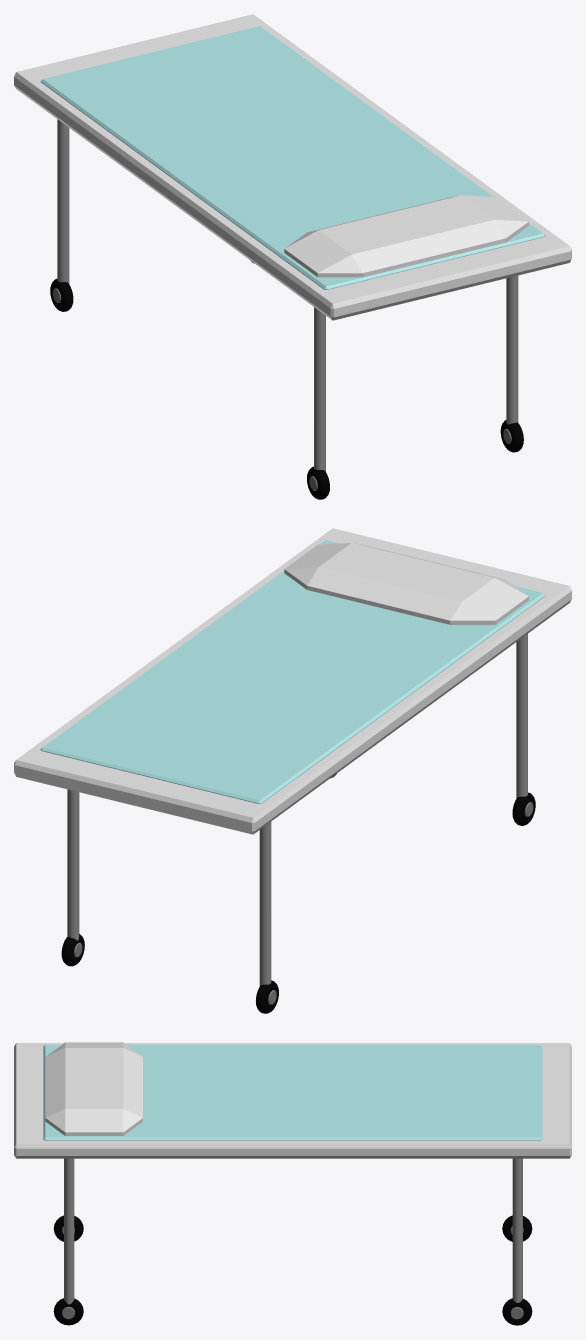
The model's file is MedBedFinal1.fbx.
The picture shows the model from 3 angles, top to bottom: view 1: azimuth 30°, elevation 25°; view 2: azimuth 150°, elevation 25°; view 3: azimuth 270°, elevation 25°; orthographic projection. The views are drawn at different scales.
Parts seen in each view (by area): view 1: pCube1, pCube2, pCube3, pCylinder2, pCylinder4, pCylinder3; view 2: pCube1, pCube2, pCube3, pCylinder2, pCylinder1, pCylinder3; view 3: pCube1, pCube2, pCube3, pCylinder4, pCylinder1, pTorus5, pTorus2, pTorus4, pTorus3.
Part boxes in pixels (x1=…): pCube1: x1=40, y1=26, x2=545, y2=289; pCube2: x1=14, y1=14, x2=571, y2=320; pCube3: x1=284, y1=195, x2=528, y2=277; pCylinder2: x1=57, y1=119, x2=69, y2=283; pCylinder4: x1=506, y1=275, x2=518, y2=424; pCylinder3: x1=314, y1=307, x2=325, y2=471; pCube1: x1=40, y1=540, x2=545, y2=803; pCube2: x1=14, y1=528, x2=571, y2=834; pCube3: x1=284, y1=543, x2=528, y2=624; pCylinder2: x1=259, y1=822, x2=271, y2=986; pCylinder1: x1=67, y1=789, x2=79, y2=940; pCylinder3: x1=516, y1=634, x2=527, y2=798; pCube1: x1=43, y1=1044, x2=542, y2=1140; pCube2: x1=14, y1=1043, x2=571, y2=1158; pCube3: x1=45, y1=1042, x2=142, y2=1135; pCylinder4: x1=64, y1=1158, x2=74, y2=1304; pCylinder1: x1=512, y1=1158, x2=522, y2=1302; pTorus5: x1=502, y1=1298, x2=532, y2=1325; pTorus2: x1=53, y1=1298, x2=83, y2=1325; pTorus4: x1=502, y1=1215, x2=532, y2=1241; pTorus3: x1=53, y1=1215, x2=83, y2=1241.
Size of the model in its own units: 0.6544 by 0.6161 by 1.5.
